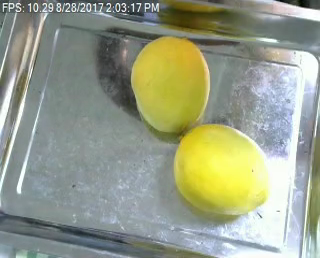Mango: (171, 121, 277, 223), (123, 39, 215, 133)
